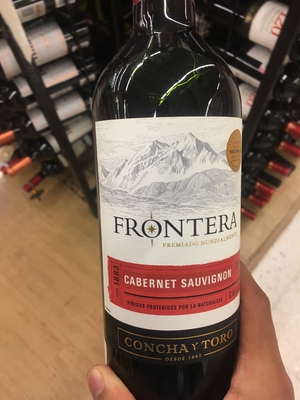frontera cabernet sauvignon: (92, 5, 259, 391)
